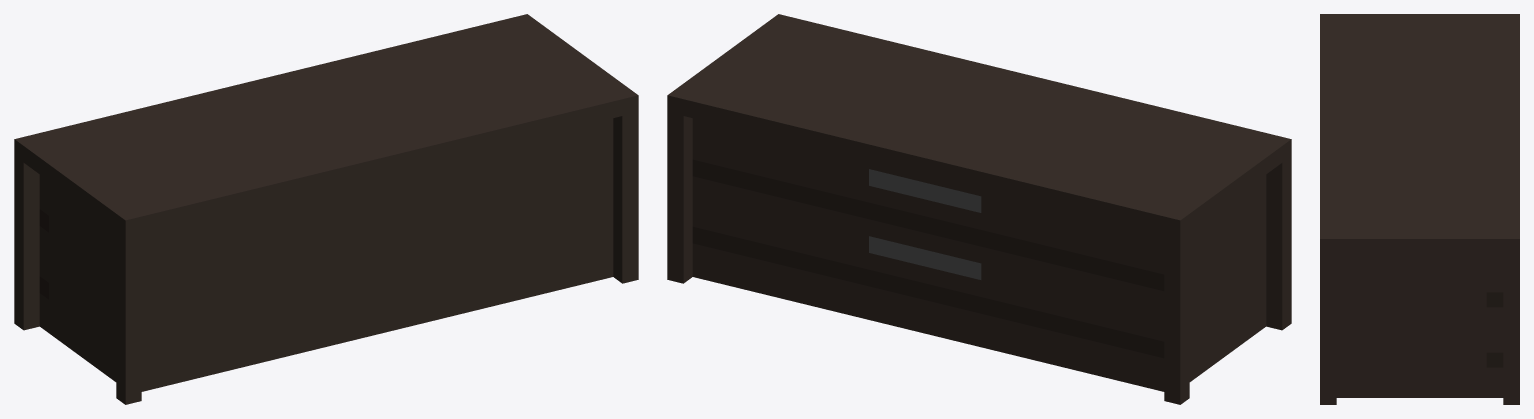
Rendered from old peopl's room-5.obj.
3 views of the same model, side by side, from view 1: azimuth 30°, elevation 25°; view 2: azimuth 150°, elevation 25°; view 3: azimuth 270°, elevation 25° (orthographic). The views are drawn at different scales.
Bounding box in the file's own units: 3.2 × 1.1 × 1.2.
1 material, 1 textured.
